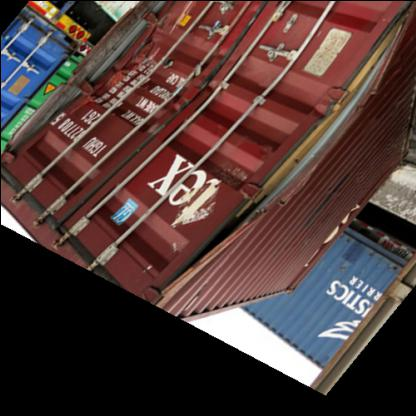Damage: (180, 73, 362, 286)
